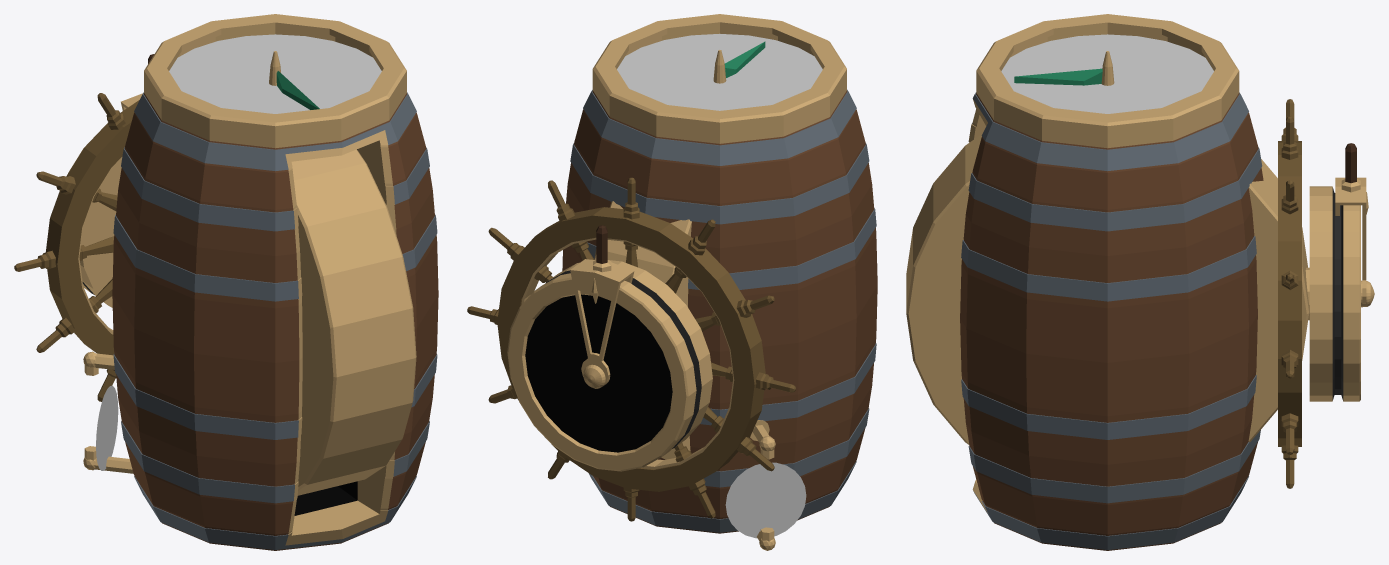
File: controller.fbx
The picture shows the model from 3 angles, left to right: view 1: azimuth 30°, elevation 25°; view 2: azimuth 150°, elevation 25°; view 3: azimuth 270°, elevation 25°; orthographic projection. The views are drawn at different scales.
Parts seen in each view (by area): view 1: Barrel, Builder_Selection, Compass_Rose_7, Wheel, EOT_Disc, Empty_Mesh, Compass_Player_Direction_8; view 2: Barrel, EOT_Disc, Wheel, Compass_Rose_7, Empty_Mesh, EOT_Handle, Builder_Selection, Compass_Player_Direction_8; view 3: Barrel, Builder_Selection, Compass_Rose_7, EOT_Disc, Wheel, EOT_Handle, Compass_Player_Direction_8.
Boxes of the visible parts, box(x1,y1,x2,y2) form: Barrel: box(83, 14, 438, 550); Builder_Selection: box(291, 149, 416, 495); Compass_Rose_7: box(169, 34, 381, 113); Wheel: box(14, 93, 139, 401); EOT_Disc: box(68, 148, 122, 307); Empty_Mesh: box(96, 385, 118, 470); Compass_Player_Direction_8: box(276, 71, 319, 109); Barrel: box(562, 14, 877, 550); EOT_Disc: box(507, 259, 712, 471); Wheel: box(467, 177, 795, 521); Compass_Rose_7: box(617, 33, 822, 110); Empty_Mesh: box(725, 462, 806, 538); EOT_Handle: box(570, 225, 634, 383); Builder_Selection: box(594, 201, 691, 459); Compass_Player_Direction_8: box(724, 41, 765, 77); Barrel: box(960, 14, 1263, 550); Builder_Selection: box(906, 134, 1309, 444); Compass_Rose_7: box(1001, 34, 1213, 113); EOT_Disc: box(1309, 186, 1374, 401); Wheel: box(1278, 99, 1309, 488); EOT_Handle: box(1335, 143, 1368, 303); Compass_Player_Direction_8: box(1014, 68, 1102, 85).
Bounding box in the file's own units: 81.6 × 102 × 97.66.
